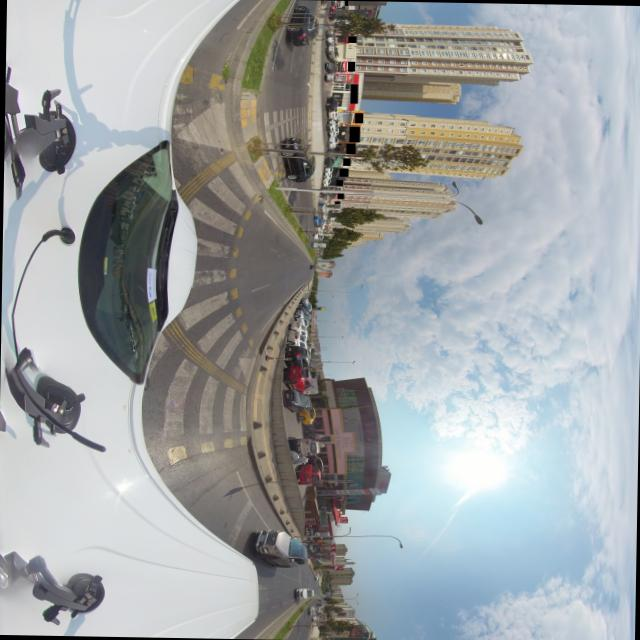SignStore: (348, 126, 359, 142), (349, 84, 357, 103), (345, 143, 354, 154), (354, 113, 362, 123), (346, 61, 354, 71), (338, 168, 347, 176), (341, 158, 349, 165), (346, 36, 355, 42), (336, 193, 343, 199), (335, 180, 341, 186), (333, 201, 339, 204), (344, 0, 347, 6)
